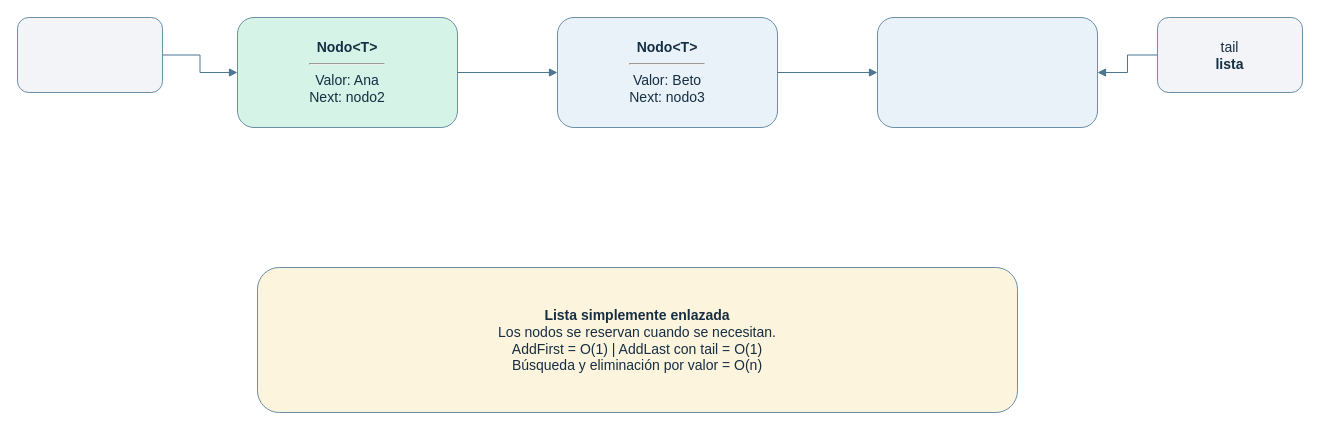
Some shapes in this 1320 by 430 pixel diagram are drawn without their labels. The shapes that lost their labels are listed below. From the top down, each one's centre as x and y in pixels, then its label:
At point (89, 54): "head lista".
At point (987, 72): "Nodo<T> Valor: Carla Next: null".
